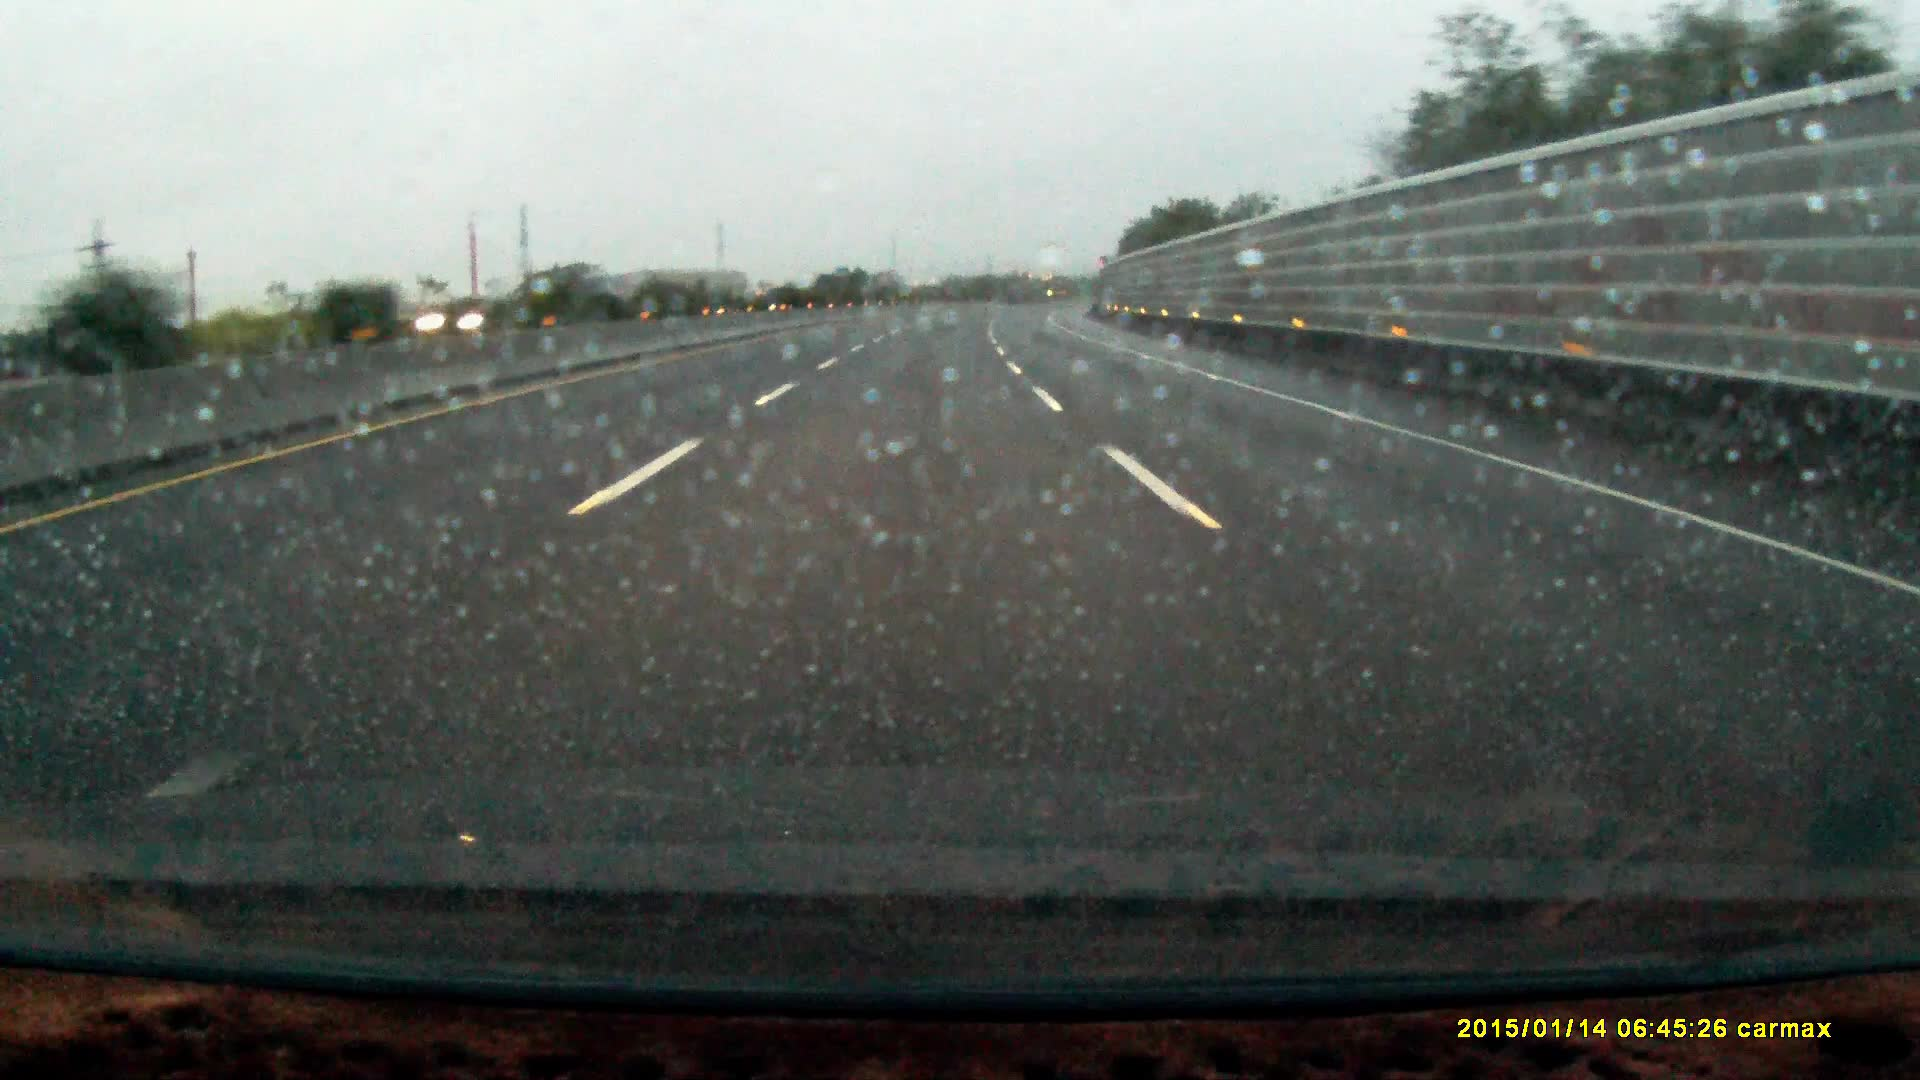vehicle: (402, 297, 526, 338)
